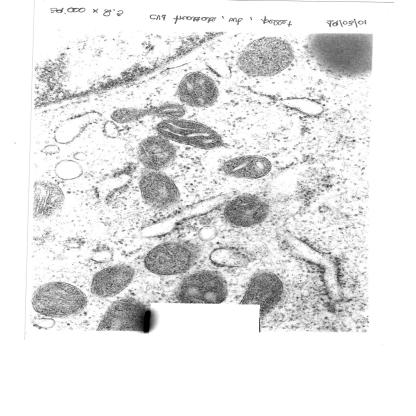mitochondria: (238, 36, 292, 76), (30, 280, 88, 317), (156, 119, 224, 149), (221, 194, 273, 228), (177, 270, 231, 302), (145, 241, 194, 276), (94, 298, 146, 330), (111, 102, 186, 124), (176, 71, 221, 107), (90, 262, 137, 296), (138, 172, 181, 209), (241, 272, 284, 304), (138, 135, 176, 170), (220, 156, 273, 178)
